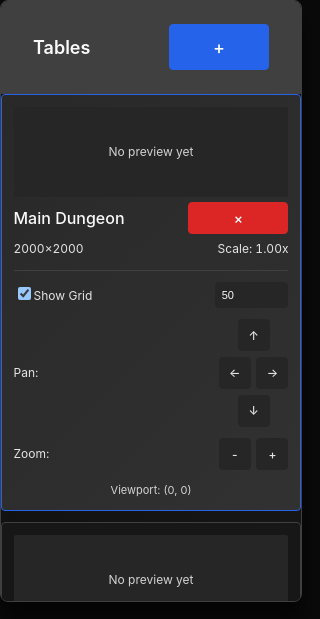
Test case: TablePanel › Creating Tables › shows create form when + button is clicked
// Use the first + button which is the create table button
What coordinates should you click on to do the following:
click the button "+" next to "Tables"
I would click on:
 (219, 47)
Its box is x1=169 y1=24 x2=269 y2=70.
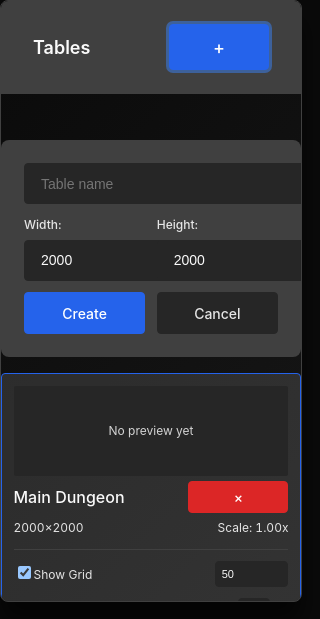
Result: the field with placeholder "Table name" is shown at x1=24 y1=163 x2=302 y2=204
Result: the number field labelled "Width:" is shown at x1=24 y1=240 x2=179 y2=280
Result: the number field labelled "Height:" is shown at x1=157 y1=240 x2=302 y2=280
